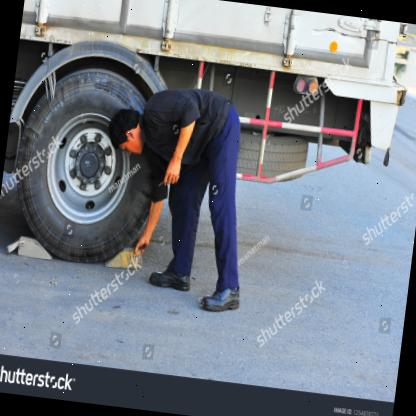bota: (197, 280, 244, 316), (144, 266, 196, 296)
